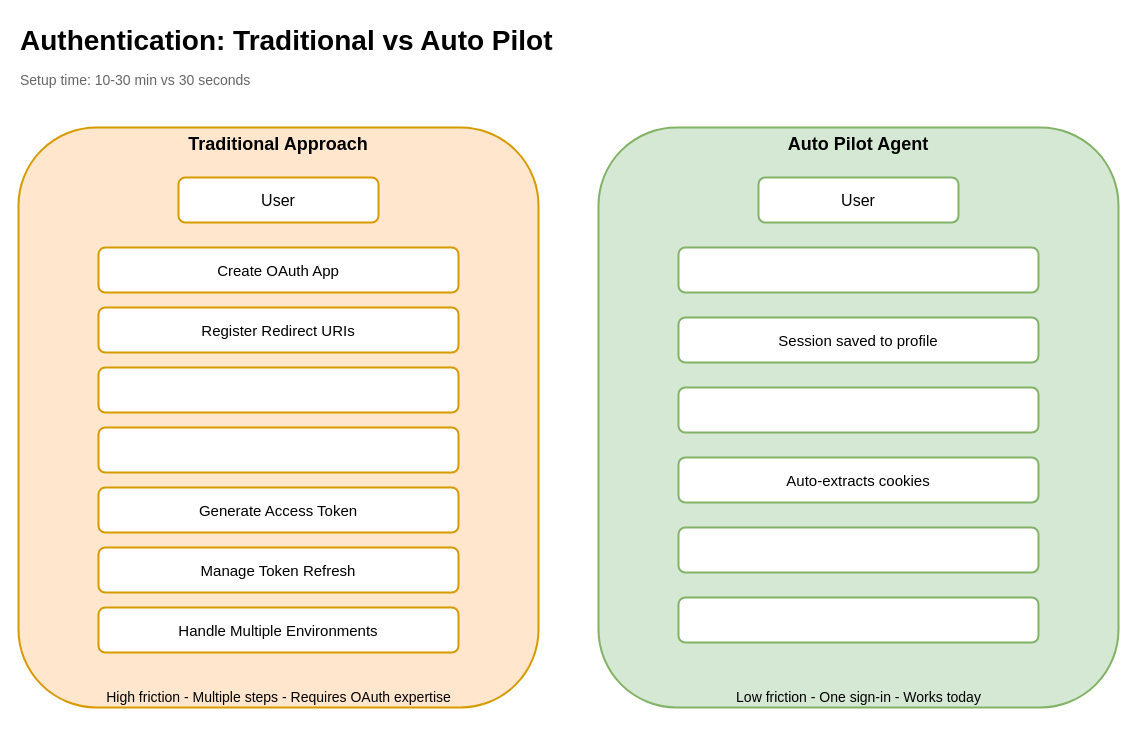
Image size: 1136x734. Some labels were removed from this diagram. The centre of each missing label's shape, as x and y in pixels:
"Agent uses session" goes at point 858,409.
"Auto-handles CSRF" goes at point 858,549.
"Configure Scopes" goes at point 278,449.
"Get Client ID and Secret" goes at point 278,389.
"Sign in via browser once" goes at point 858,269.
"Works across all tools" goes at point 858,619.
